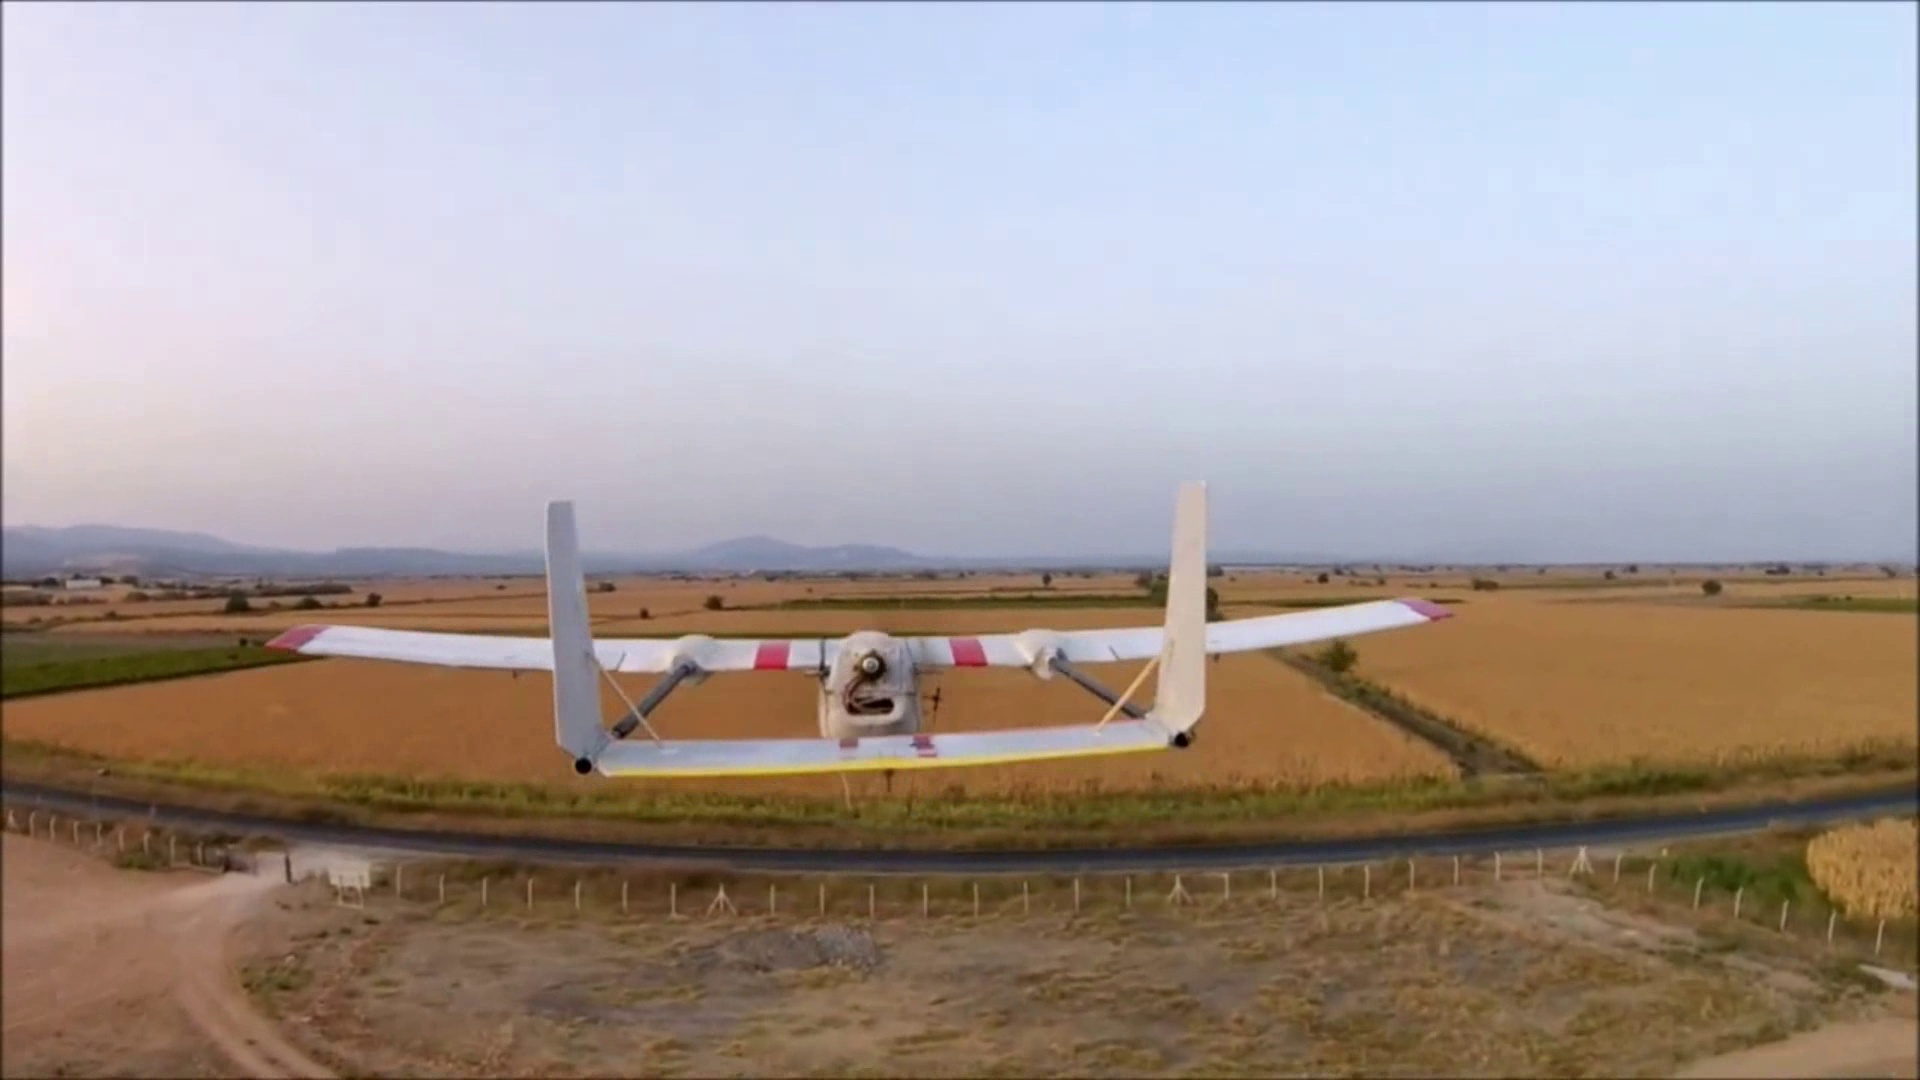airplane: (274, 481, 1453, 769)
